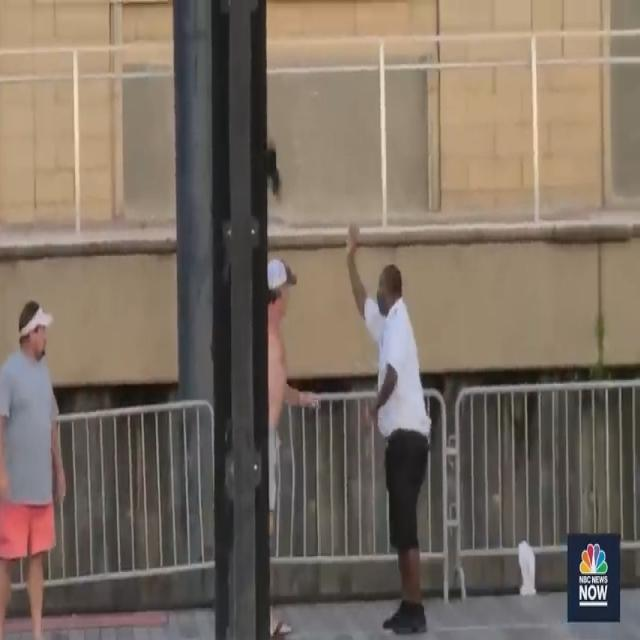non-fight: (345, 216, 429, 640), (0, 288, 65, 639), (266, 248, 321, 640)
